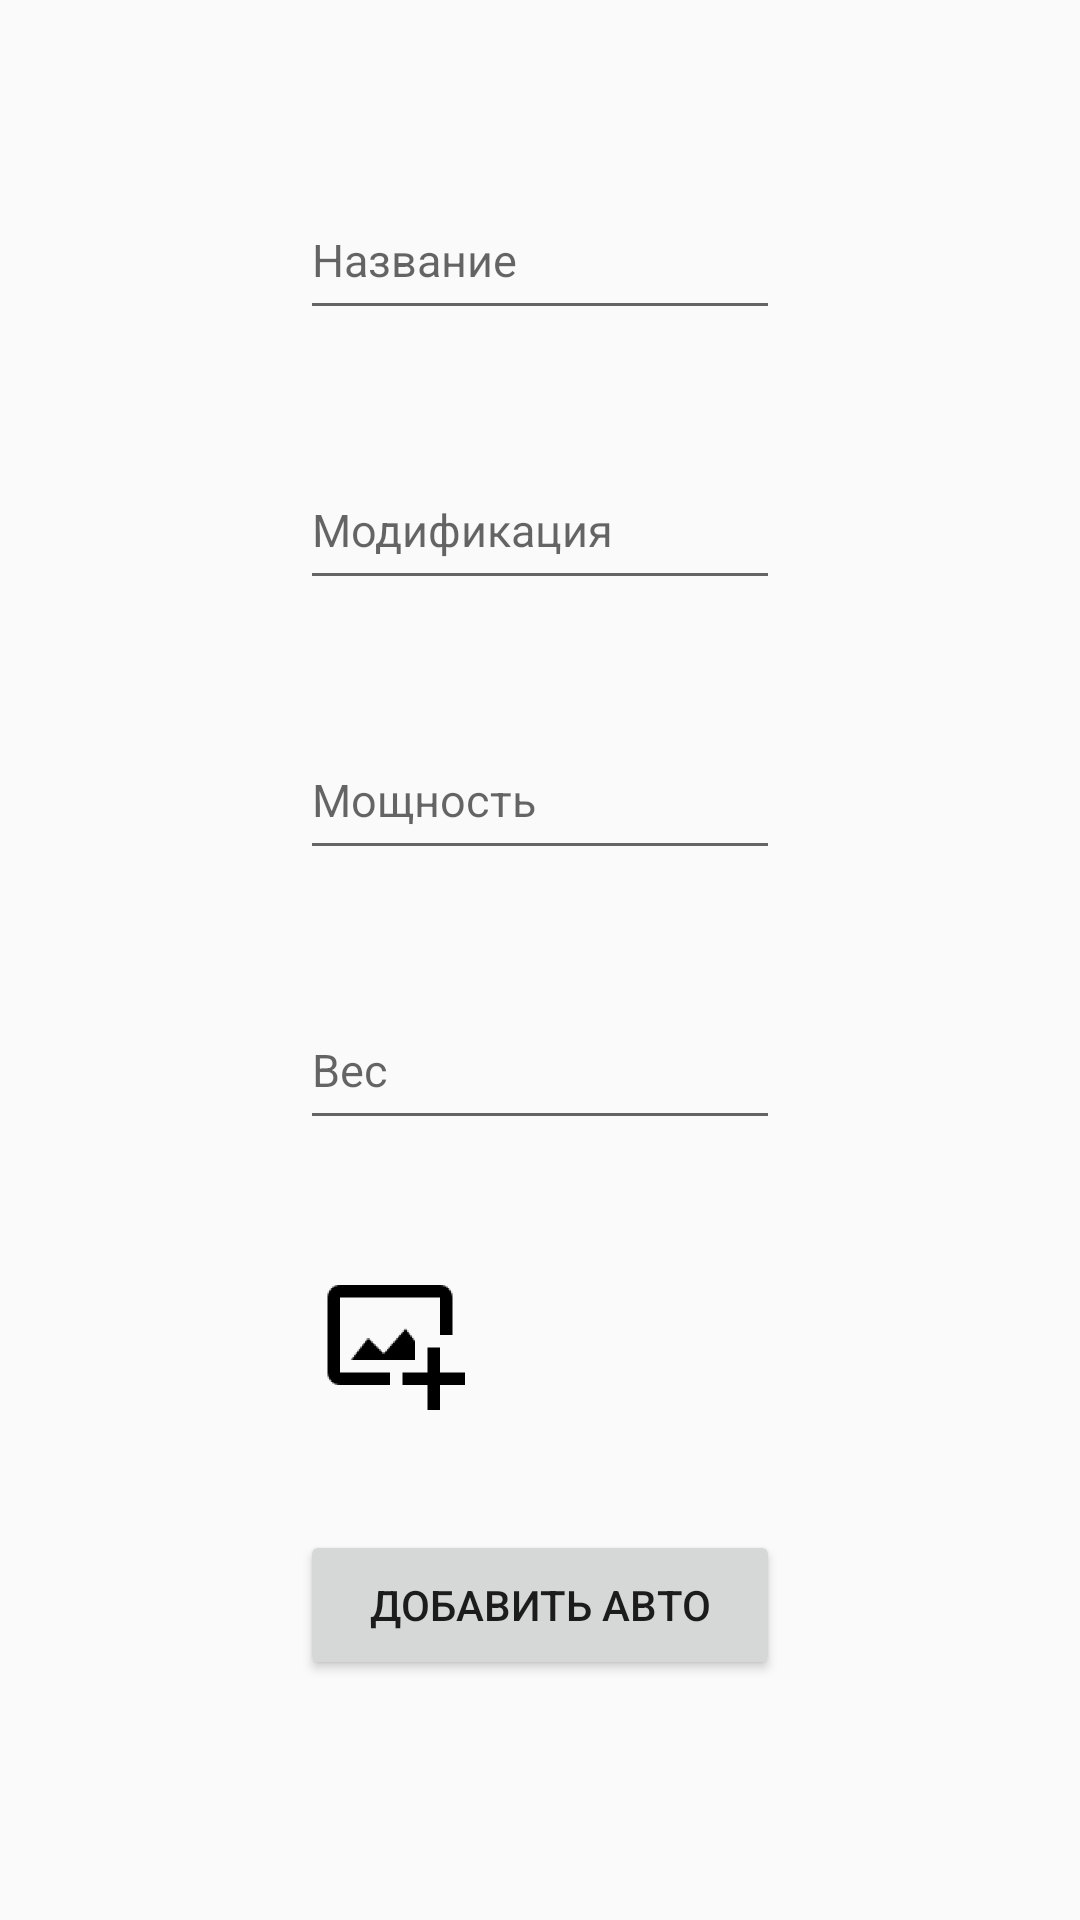

Icon click points for this 1080px x 1920px phone screenshot, format point (x, y):
add photo auto: point (396, 1347)
